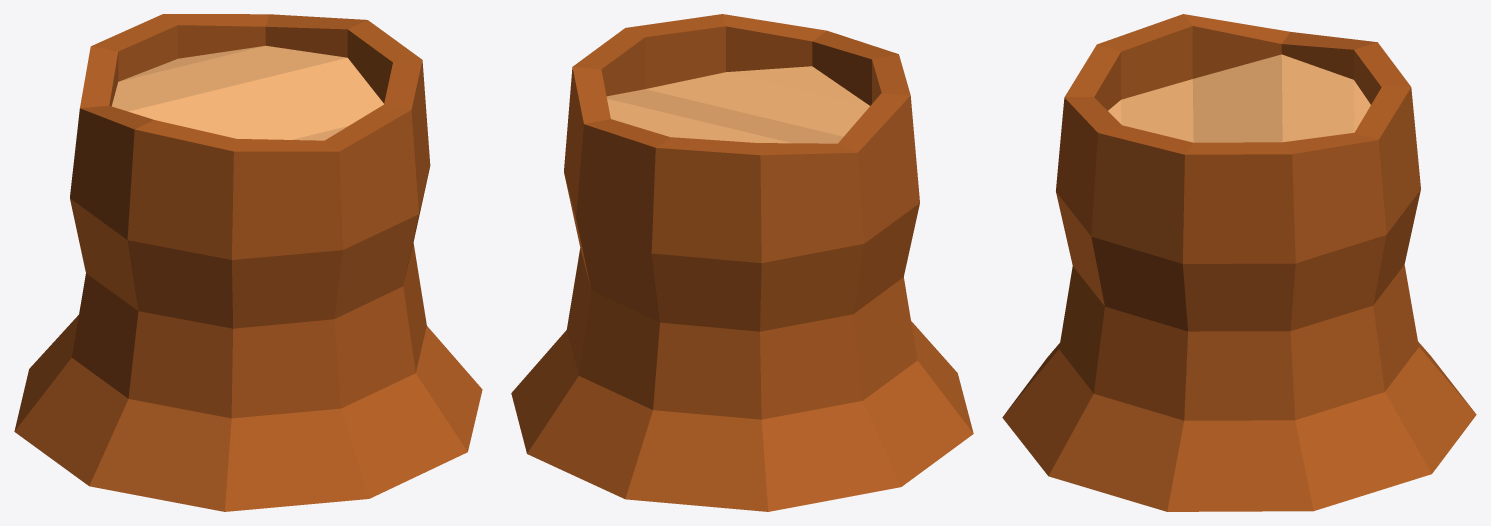
File: F_Stump_7_0.fbx
3 views of the same model, side by side, from view 1: azimuth 30°, elevation 25°; view 2: azimuth 150°, elevation 25°; view 3: azimuth 270°, elevation 25° (orthographic).
Parts seen in each view (by area): view 1: F_Stump_7_0; view 2: F_Stump_7_0; view 3: F_Stump_7_0.
Part boxes in pixels (x1,y1,x2,y2): F_Stump_7_0: [14, 14, 482, 511]; F_Stump_7_0: [511, 14, 973, 511]; F_Stump_7_0: [1002, 14, 1476, 511].
Bounding box in the file's own units: 125 × 102 × 131.
1 material, 1 textured.
